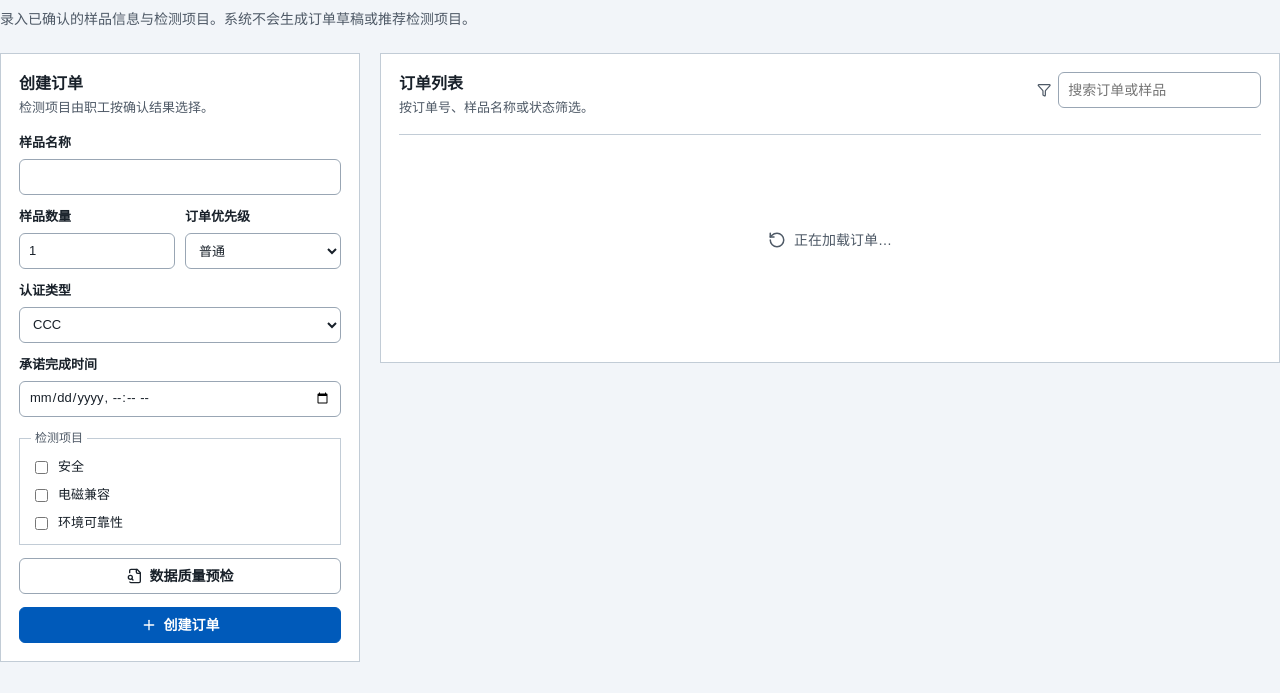
Test case: OrdersPage › shows deterministic data-quality findings without auto-correcting the order
Click the button "数据质量预检" at (180, 576), box [19,558,341,594]
(page scrolled)
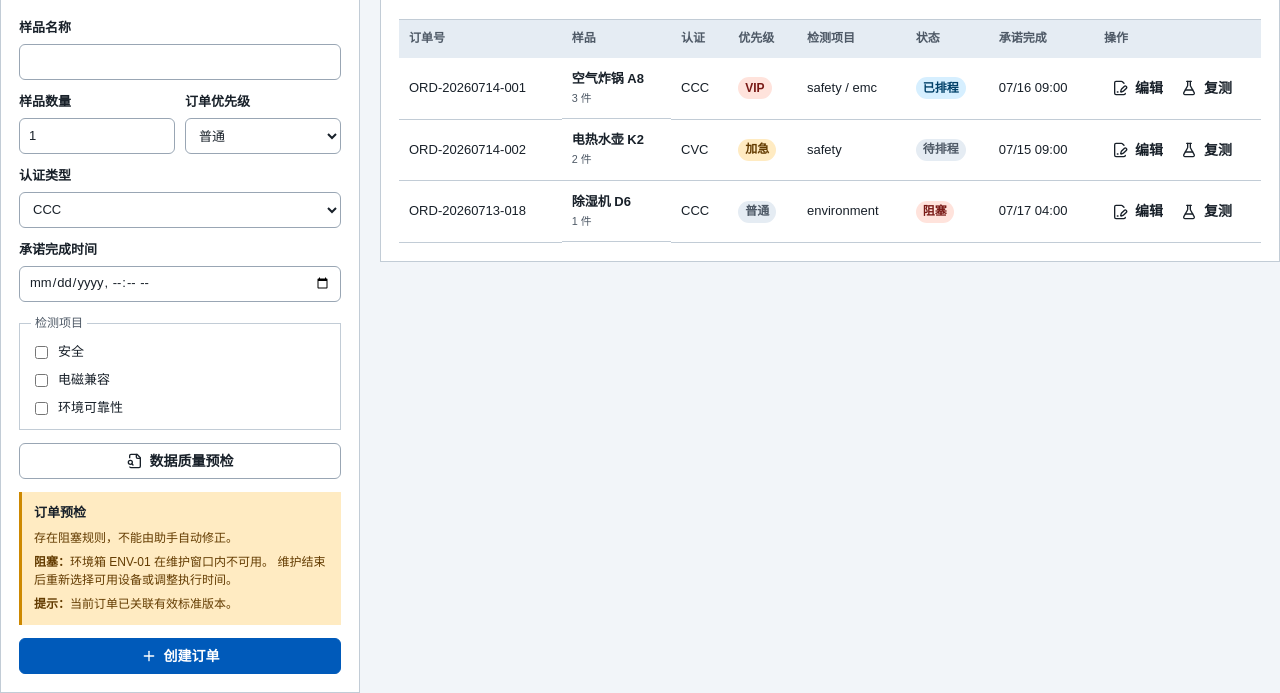
Expected: the button "创建订单" is enabled, [19,638,341,674]
Expected: the heading "订单预检" is shown, [34,505,86,520]
Expected: the text "存在阻塞规则，不能由助手自动修正。" is shown, [34,531,238,545]
